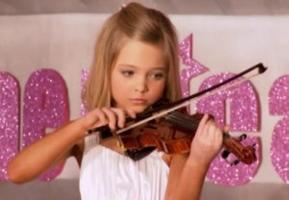person: (8, 3, 230, 200)
